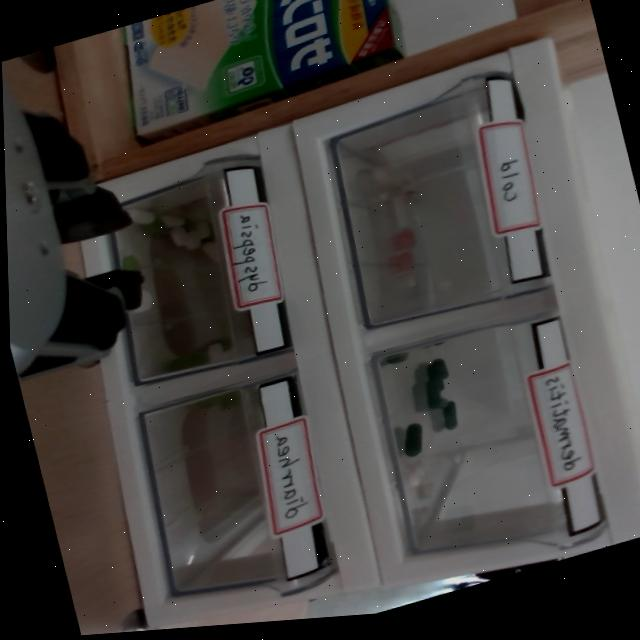text: (537, 368, 590, 478), (262, 426, 318, 527), (220, 207, 277, 300), (487, 150, 535, 210)
